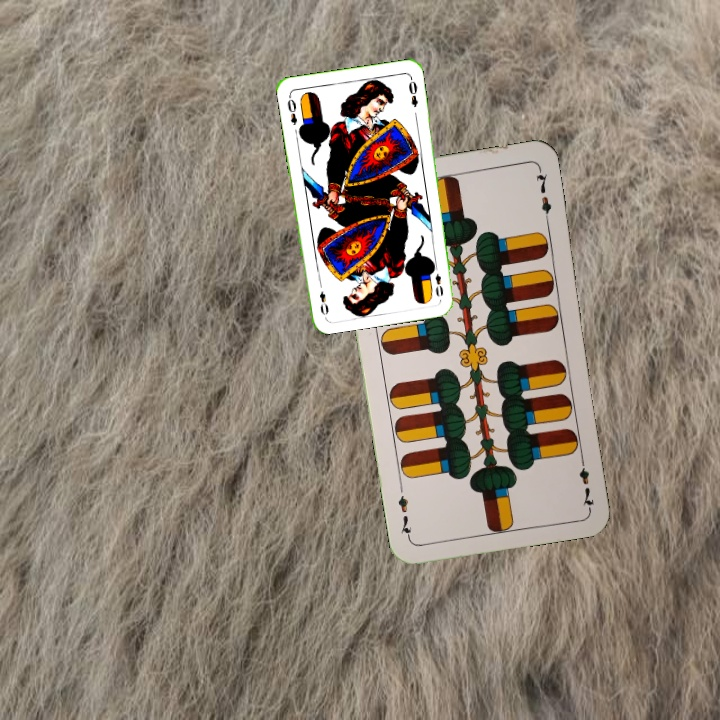E7: (575, 451, 597, 510)
EO: (428, 260, 446, 299), (283, 92, 300, 127)
